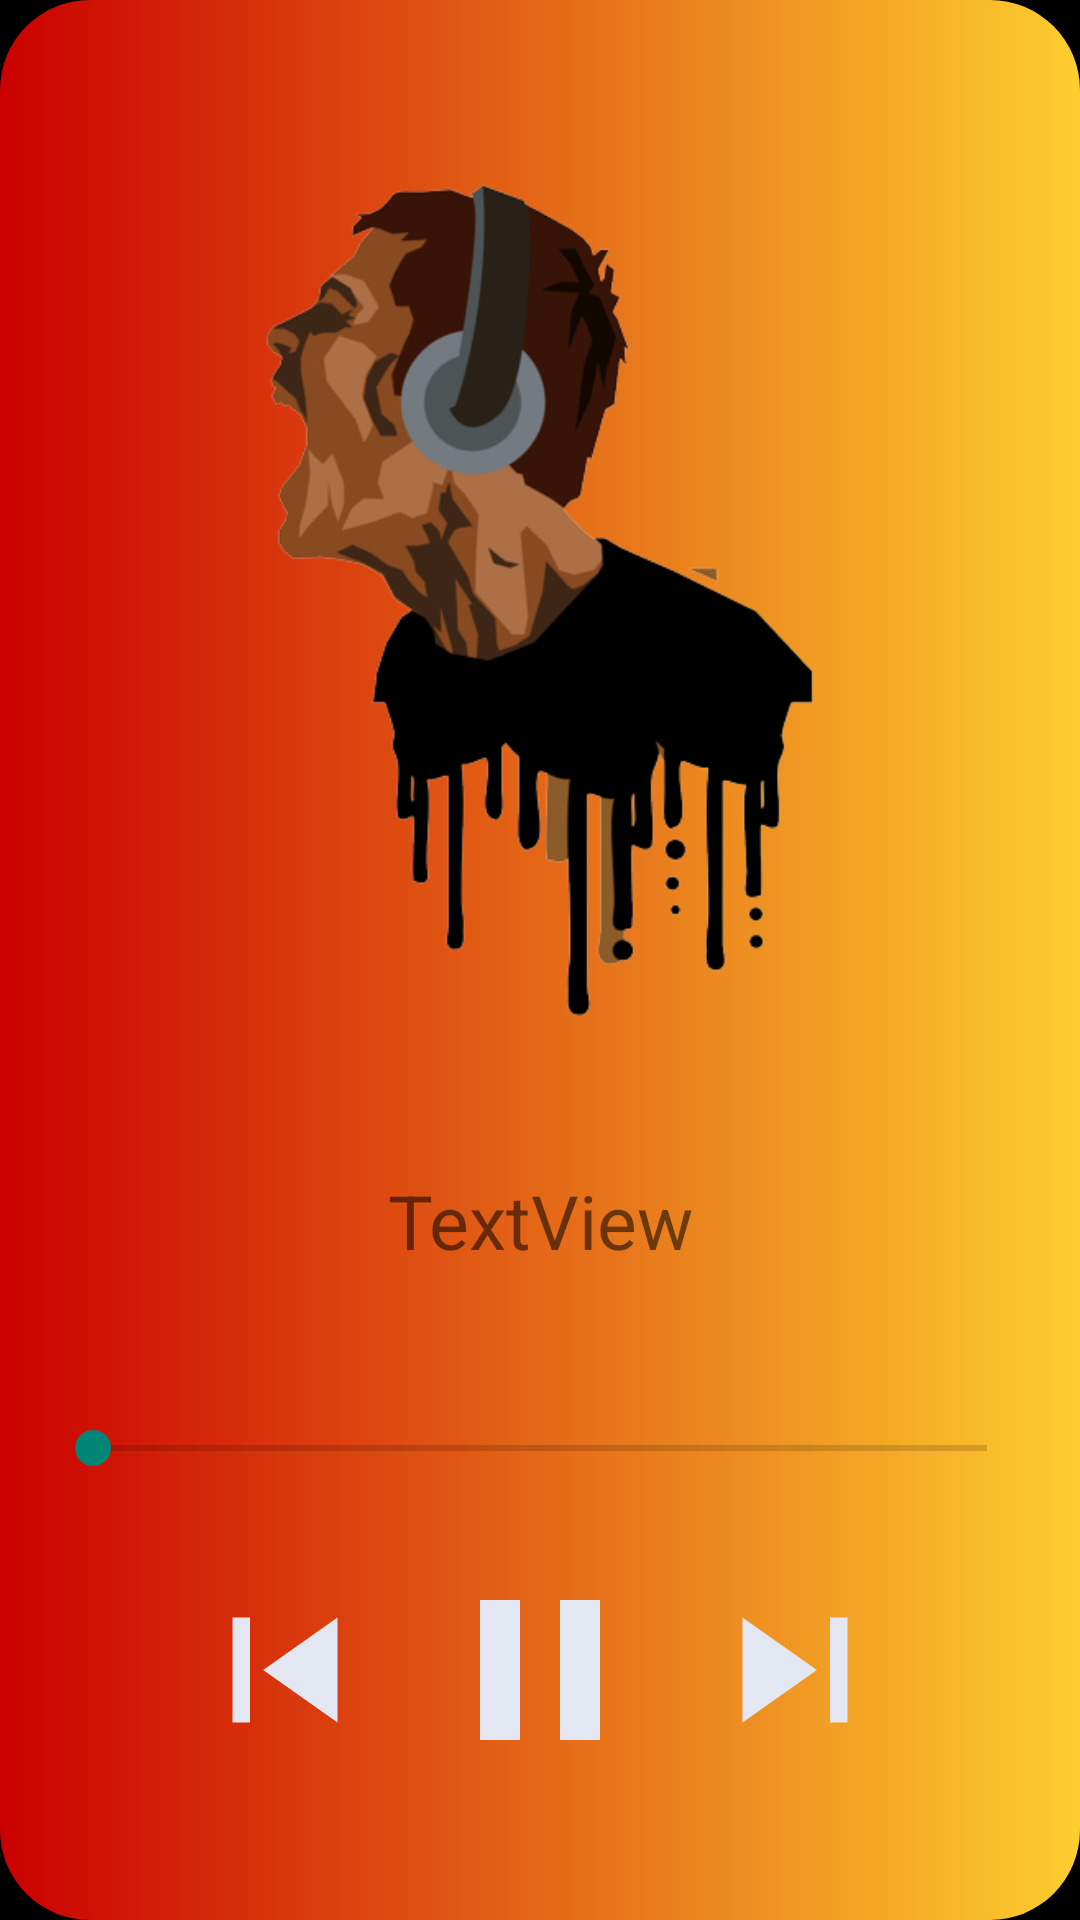

Icons on this 1080×1920 Android screen, each with the point to tap as point (x, y):
next: point (795, 1670)
pause: point (540, 1670)
previous: point (285, 1670)
